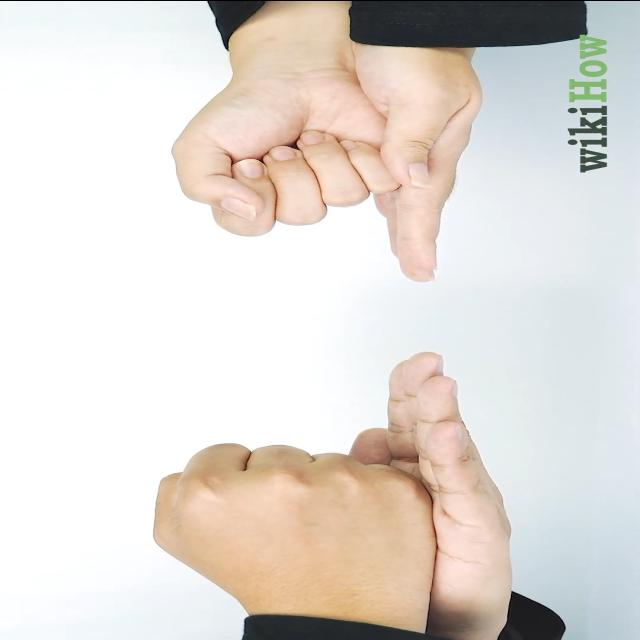Rock: (151, 442, 434, 612), (172, 78, 398, 236)
